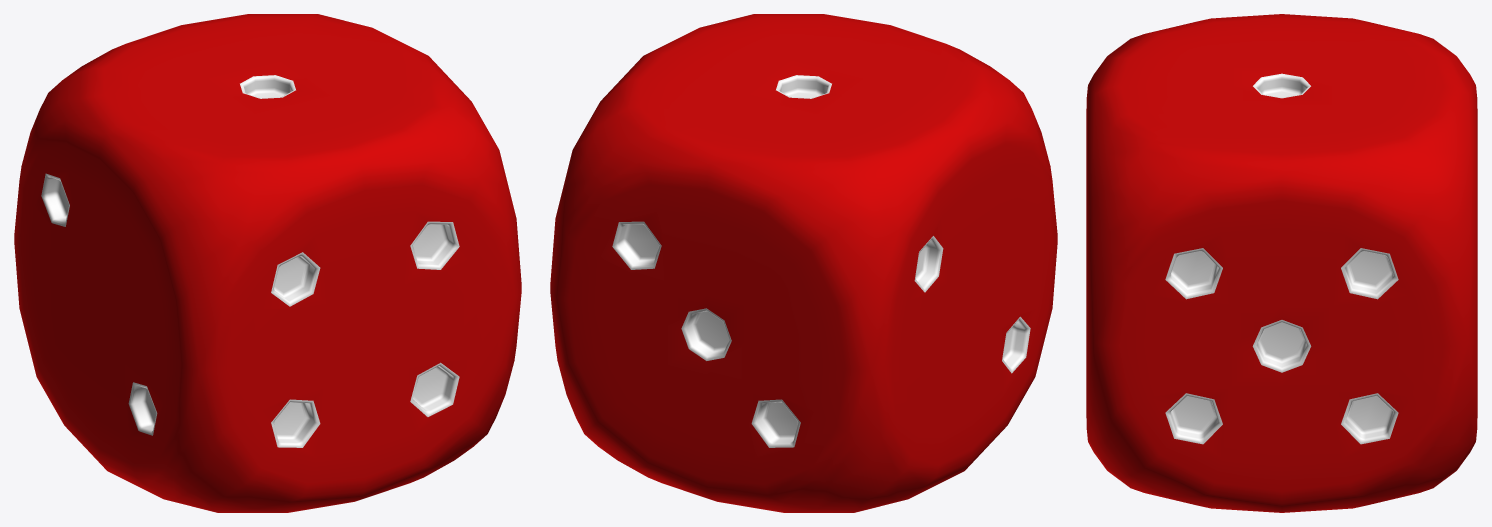
File: dice.gltf
3 views of the same model, side by side, from view 1: azimuth 30°, elevation 25°; view 2: azimuth 150°, elevation 25°; view 3: azimuth 270°, elevation 25° (orthographic).
Visible parts, largest first — view 1: Dice; view 2: Dice; view 3: Dice.
Boxes of the visible parts, bbox=[...] form: Dice: bbox=[14, 14, 521, 512]; Dice: bbox=[550, 14, 1057, 512]; Dice: bbox=[1086, 14, 1477, 512].
Size of the model in its own units: 1 by 1 by 1.
